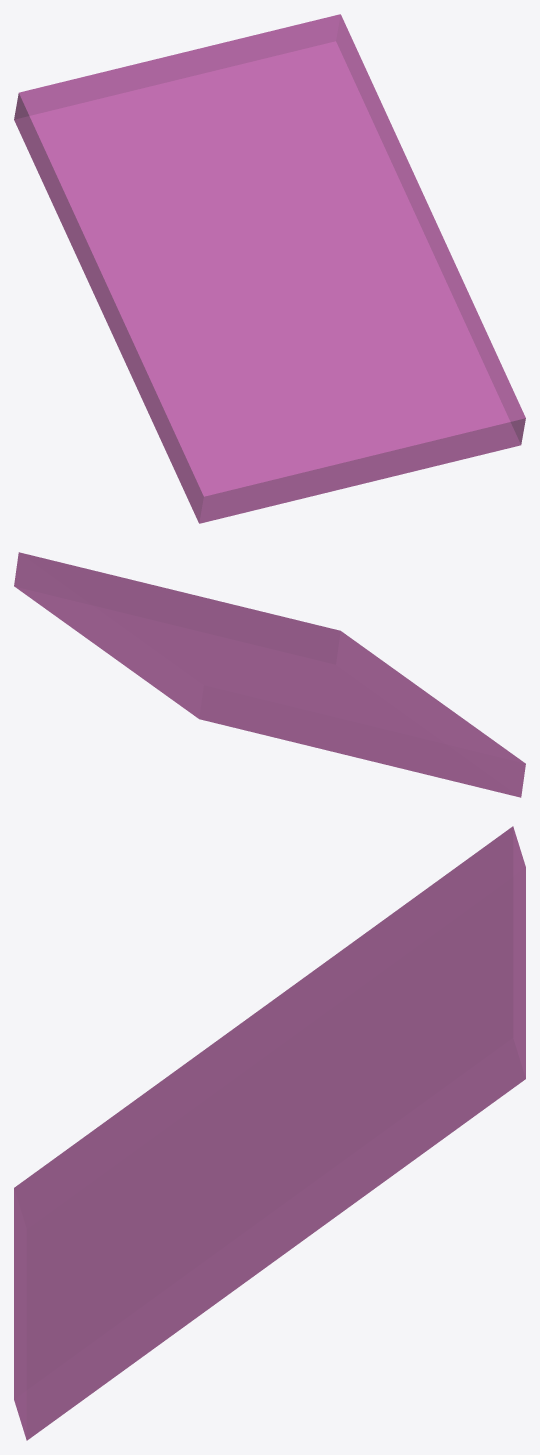
File: SM_Bld_Roof_01_Collision_01.fbx
3 views of the same model, one above another, from view 1: azimuth 30°, elevation 25°; view 2: azimuth 150°, elevation 25°; view 3: azimuth 270°, elevation 25° (orthographic). The views are drawn at different scales.
Parts seen in each view (by area): view 1: SM_Bld_Roof_01_Collision_01; view 2: SM_Bld_Roof_01_Collision_01; view 3: SM_Bld_Roof_01_Collision_01.
Part boxes in pixels (left/top/right/bottom): SM_Bld_Roof_01_Collision_01: left=14, top=14, right=525, bottom=523; SM_Bld_Roof_01_Collision_01: left=14, top=552, right=525, bottom=797; SM_Bld_Roof_01_Collision_01: left=14, top=826, right=525, bottom=1440.
Size of the model in its own units: 255 by 227 by 261.
